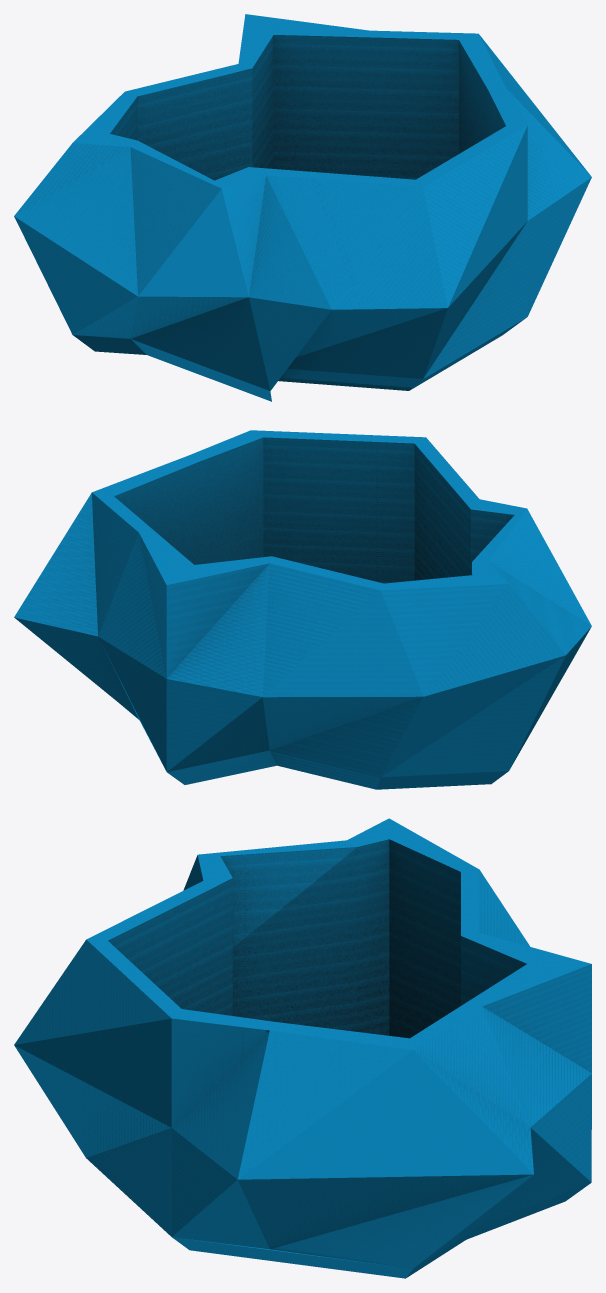
Rendered from small_monolithic_plant_pot.glb.
The picture shows the model from 3 angles, top to bottom: view 1: azimuth 30°, elevation 25°; view 2: azimuth 150°, elevation 25°; view 3: azimuth 270°, elevation 25°; orthographic projection. The views are drawn at different scales.
Parts seen in each view (by area): view 1: Object_2; view 2: Object_2; view 3: Object_2.
Boxes of the visible parts, box(x1,y1,x2,y2) form: Object_2: box(14, 14, 591, 401); Object_2: box(14, 430, 591, 789); Object_2: box(14, 818, 591, 1278).
Bounding box in the file's own units: 75.84 × 30 × 65.11.
1 material, 1 textured.
